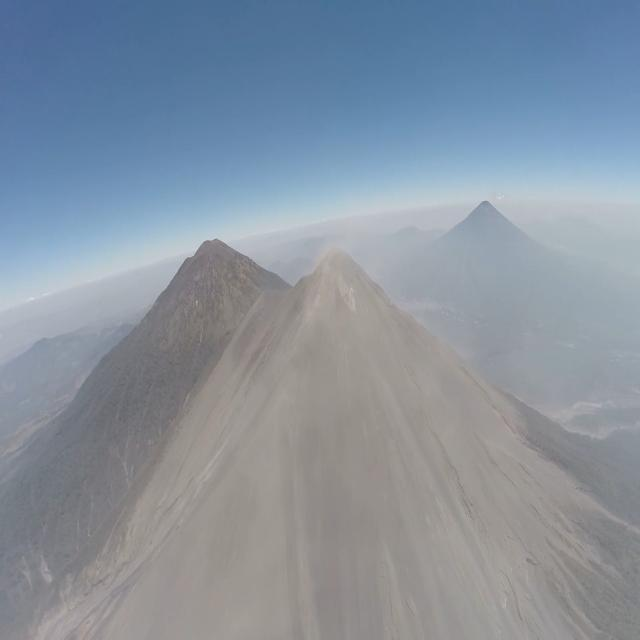Summit: (292, 242, 387, 290)
